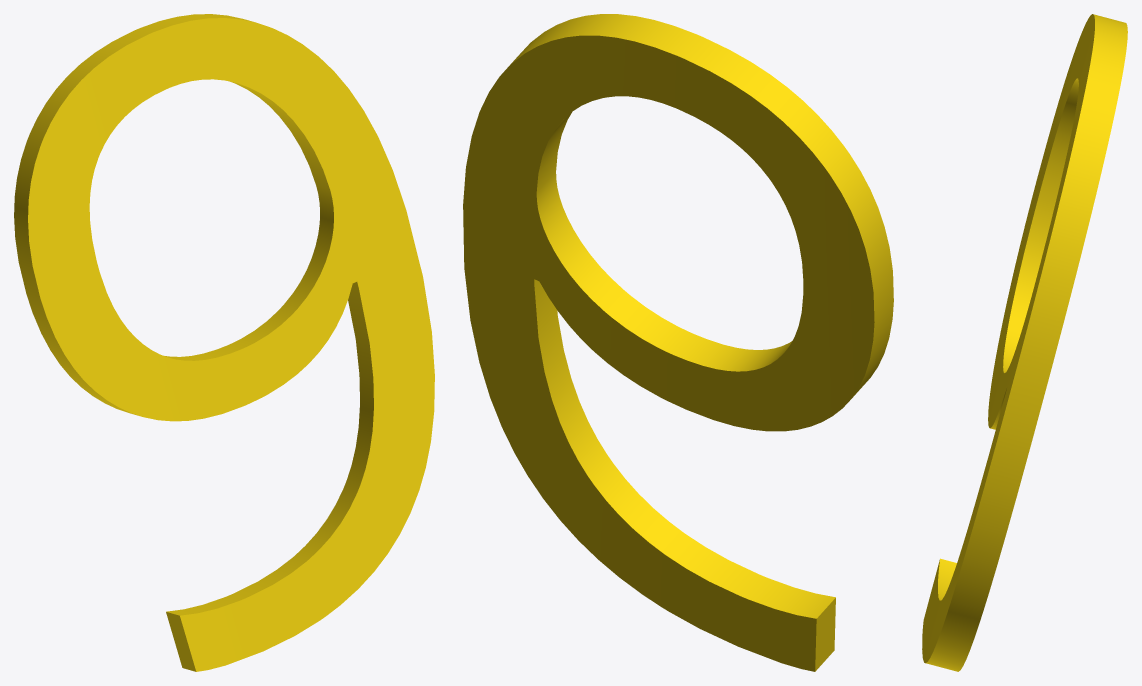
File: Number_6.gltf
The picture shows the model from 3 angles, left to right: view 1: azimuth 30°, elevation 25°; view 2: azimuth 150°, elevation 25°; view 3: azimuth 270°, elevation 25°; orthographic projection. The views are drawn at different scales.
Visible parts, largest first — view 1: Sub_2_Cell_2_1_Number_6; view 2: Sub_2_Cell_2_1_Number_6; view 3: Sub_2_Cell_2_1_Number_6.
Boxes of the visible parts, bbox=[...] form: Sub_2_Cell_2_1_Number_6: bbox=[14, 14, 434, 671]; Sub_2_Cell_2_1_Number_6: bbox=[463, 14, 893, 671]; Sub_2_Cell_2_1_Number_6: bbox=[922, 14, 1127, 671].
Bounding box in the file's own units: 0.0173 × 0.0259 × 0.00771.
